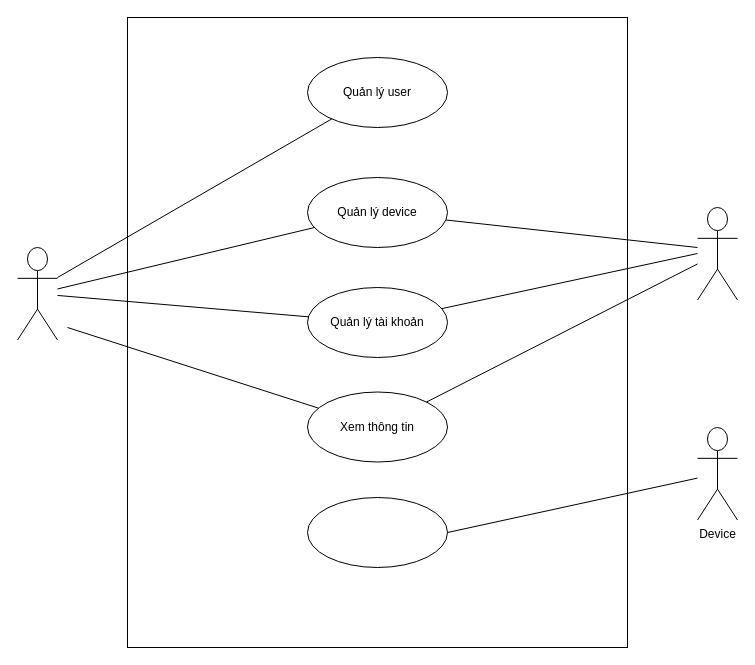
The diagram is 755 pixels wide and 665 high, and some of its shapes have lost their labels. Each missing label, with the centre of its shape:
Admin: pixel 37 293
Gửi yêu cầu lưu dữ liệu mới: pixel 377 532
User: pixel 717 253
